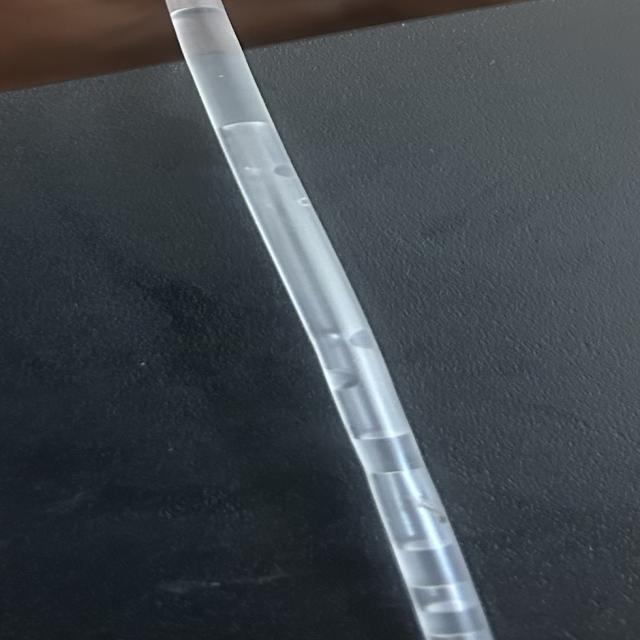bubble: (176, 102, 427, 335), (342, 462, 509, 551), (130, 3, 268, 69), (326, 380, 437, 441), (411, 581, 502, 623), (251, 155, 333, 184)
